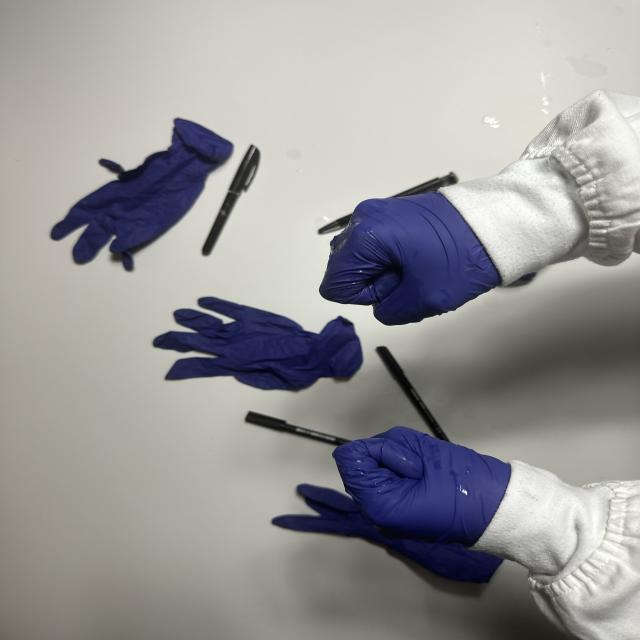gloves_contaminated: (320, 192, 500, 325), (336, 427, 510, 542)
